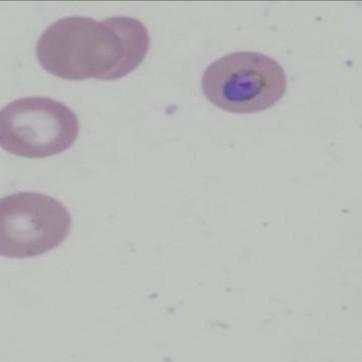Infected: (201, 51, 288, 113)
Uninfected: (37, 15, 124, 82), (0, 191, 71, 258), (0, 97, 78, 157), (83, 16, 149, 80)
